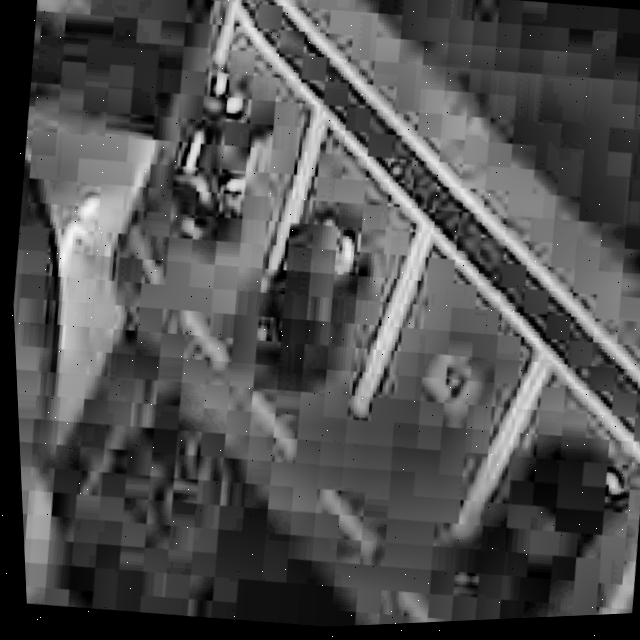car: (435, 412, 639, 625), (226, 195, 391, 414), (155, 54, 294, 256)
